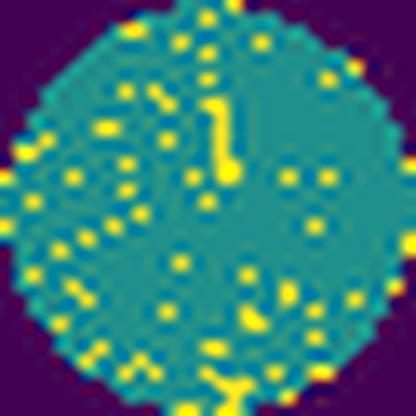Scratch: (194, 90, 246, 188)
